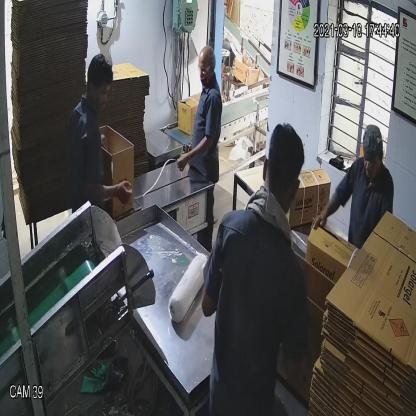no_glove: (83, 172, 137, 218), (306, 180, 338, 248), (175, 130, 214, 176)
